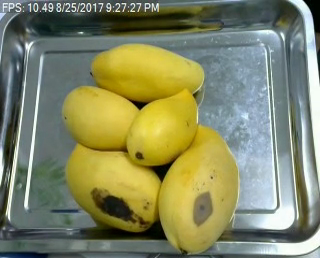Mango: (155, 124, 239, 254), (63, 139, 163, 232), (89, 42, 203, 102), (123, 88, 199, 167), (62, 85, 140, 150)
